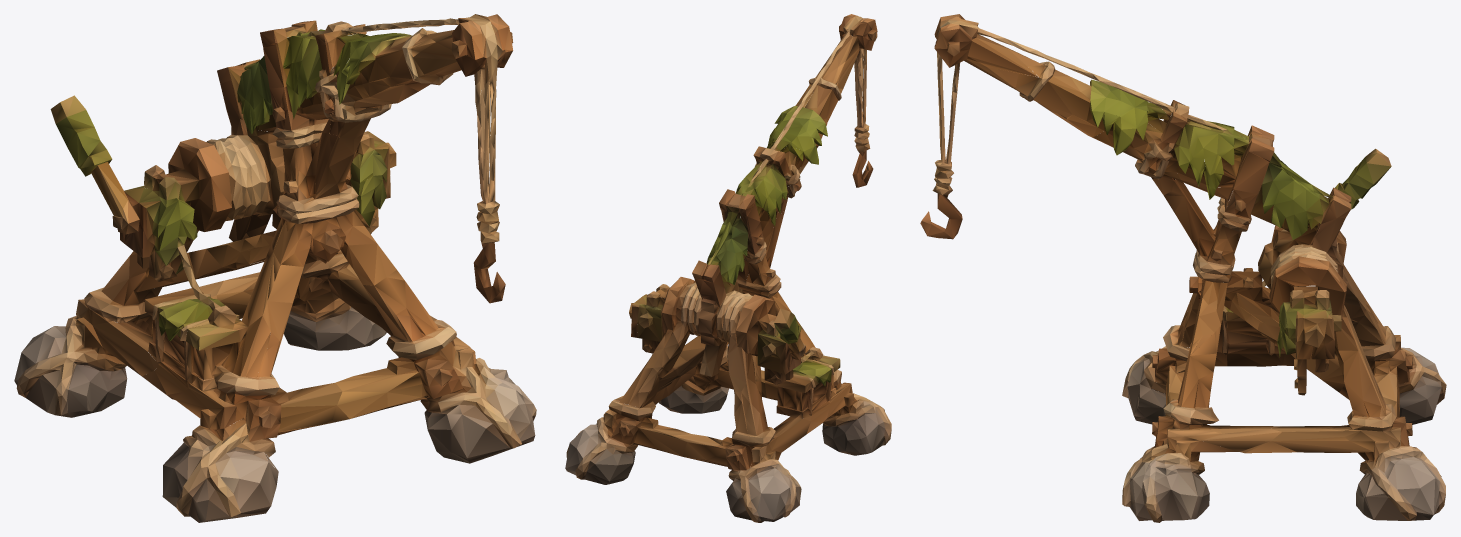
Rendered from building-magnetCrane.glb.
3 views of the same model, side by side, from view 1: azimuth 30°, elevation 25°; view 2: azimuth 150°, elevation 25°; view 3: azimuth 270°, elevation 25° (orthographic). The views are drawn at different scales.
Visible parts, largest first — view 1: 0_magnetCrane; view 2: 0_magnetCrane; view 3: 0_magnetCrane.
Part boxes in pixels (left/top/right/bottom): 0_magnetCrane: left=14, top=14, right=536, bottom=522; 0_magnetCrane: left=565, top=14, right=891, bottom=522; 0_magnetCrane: left=920, top=14, right=1446, bottom=522.
Bounding box in the file's own units: 2.42 × 3.56 × 3.84.
